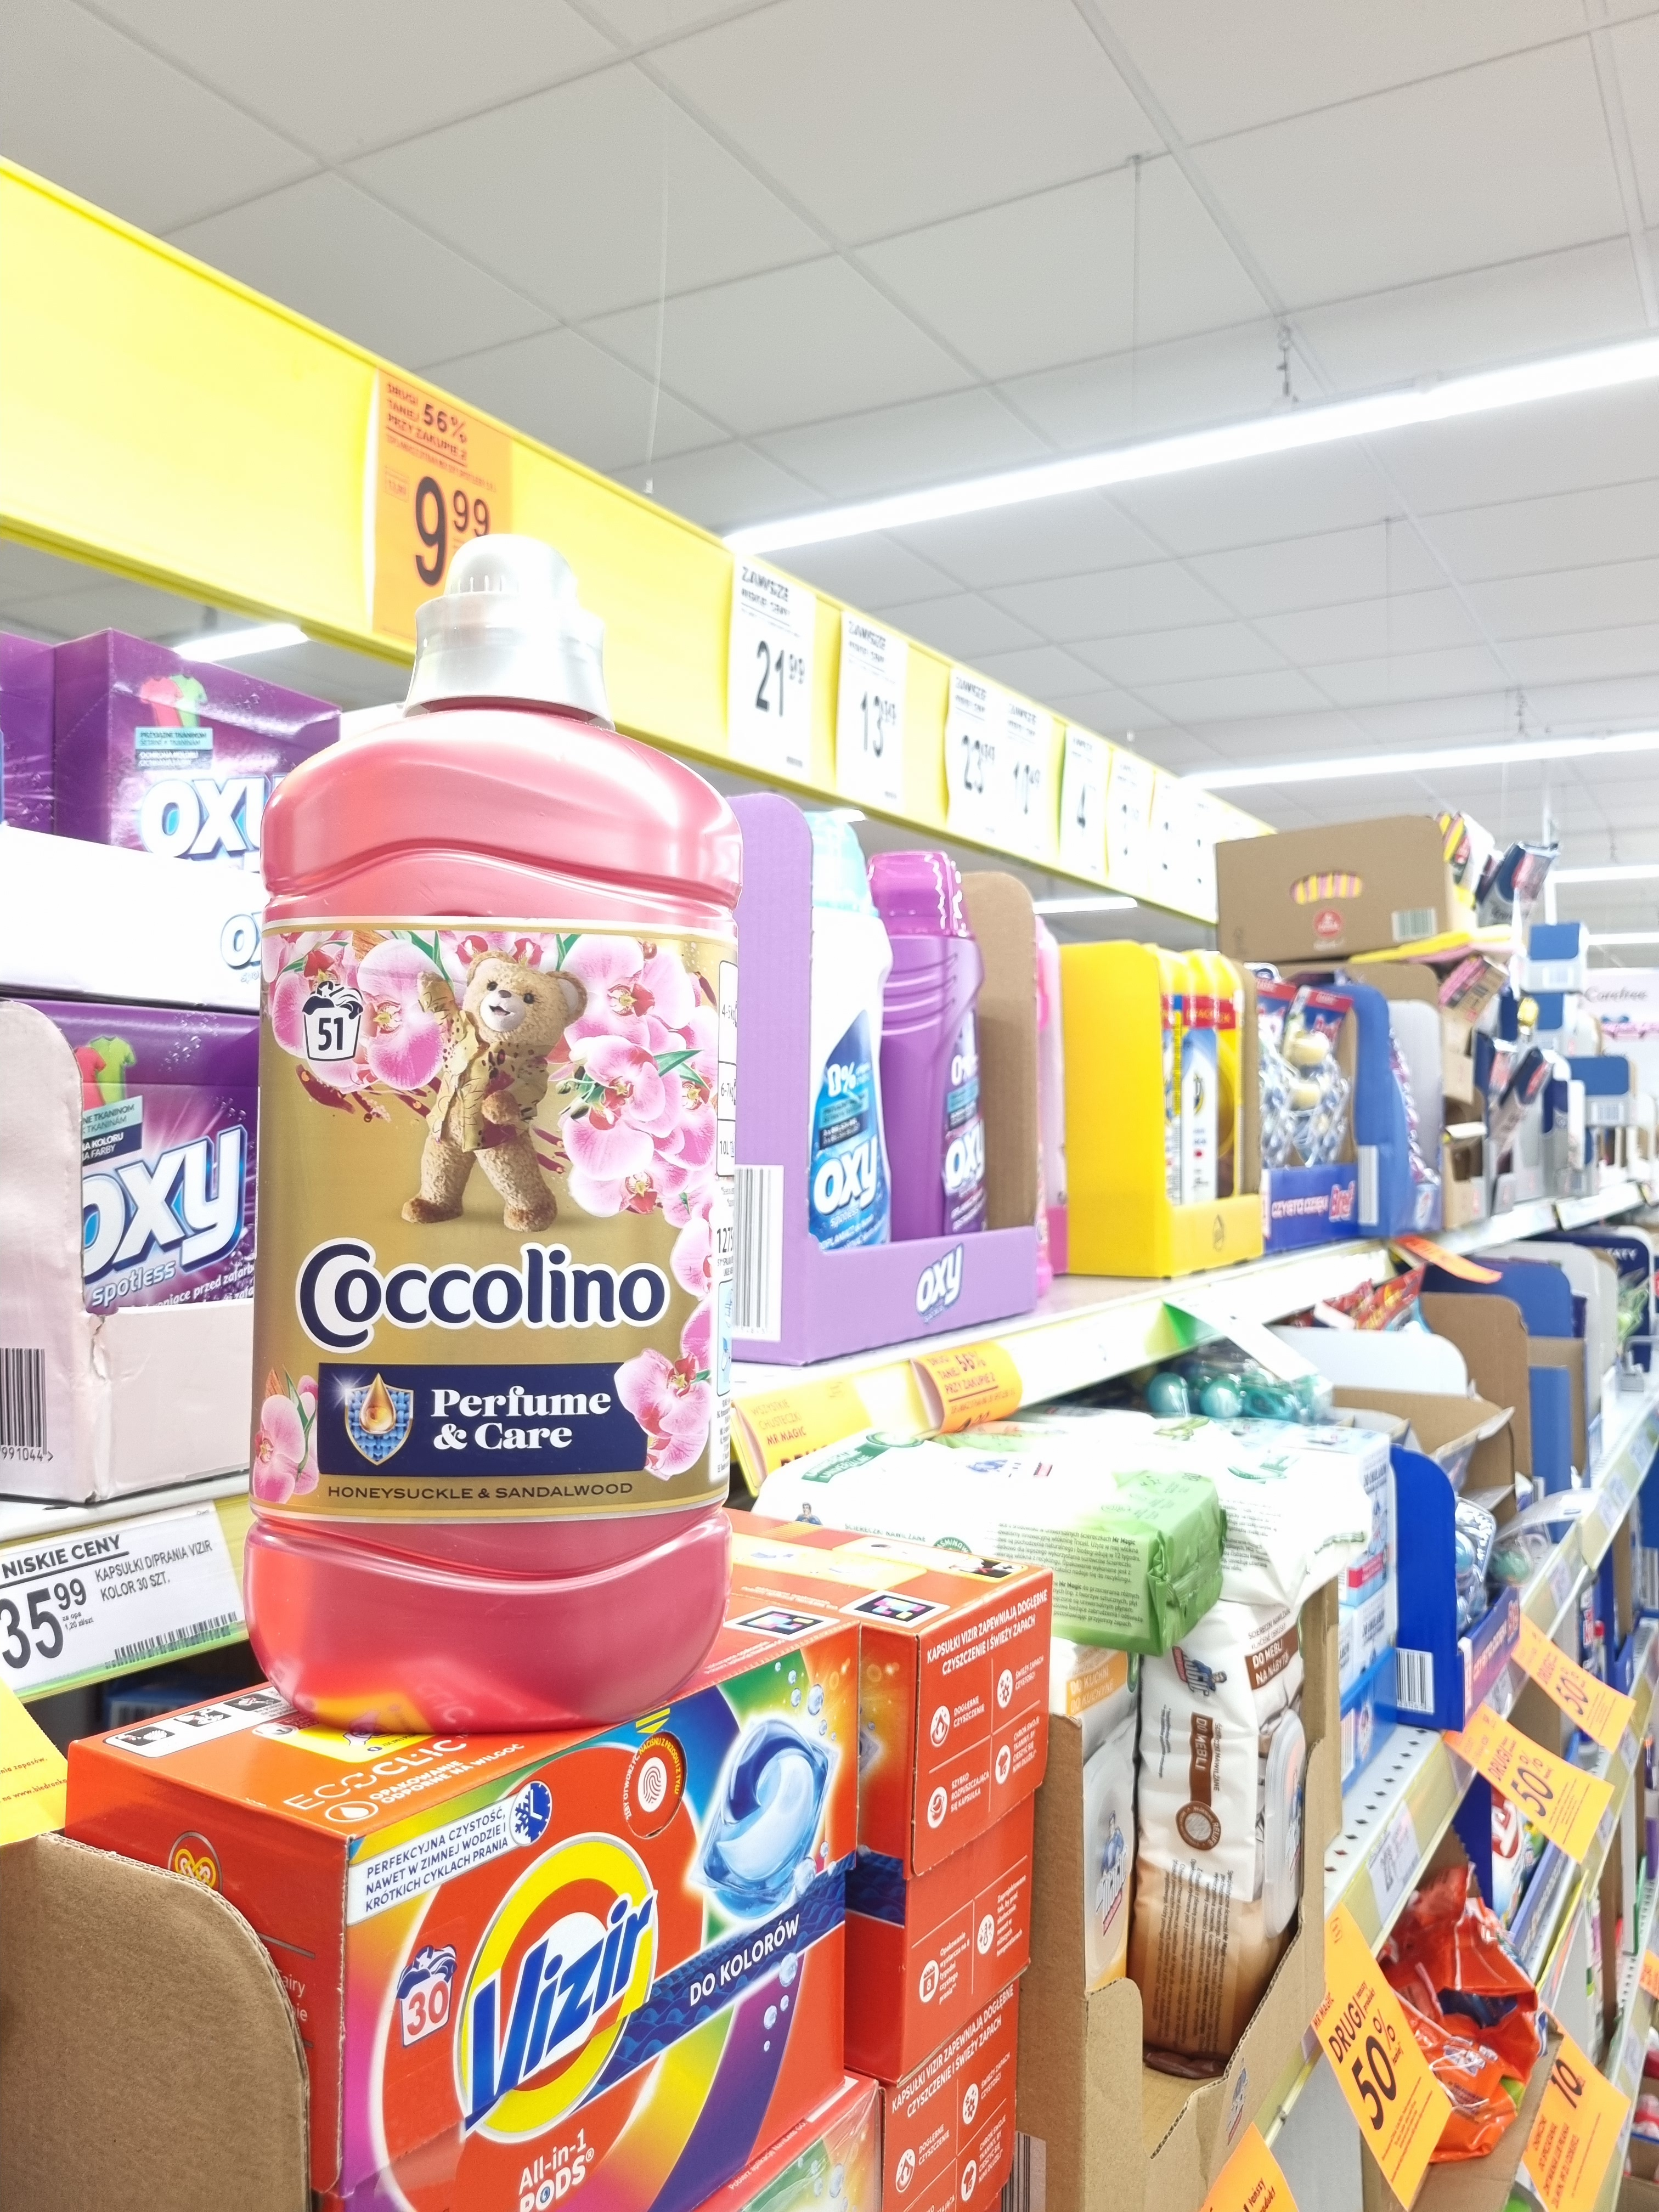cocolino: (249, 695, 741, 1735)
